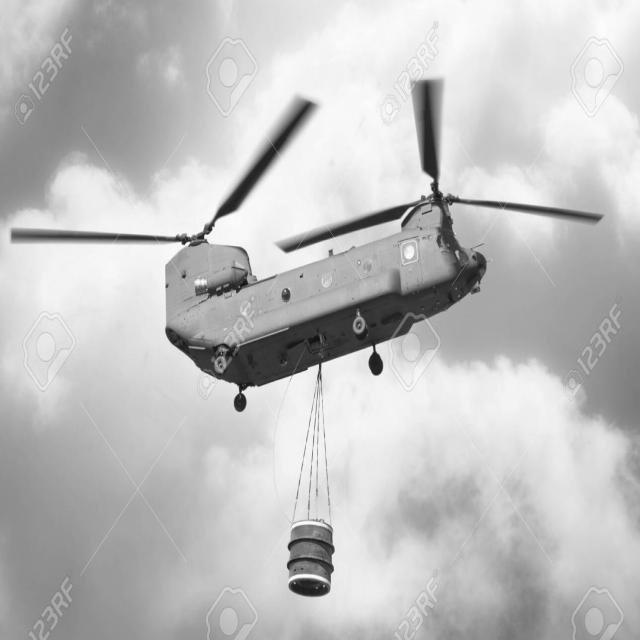helicopter: (10, 74, 601, 415)
